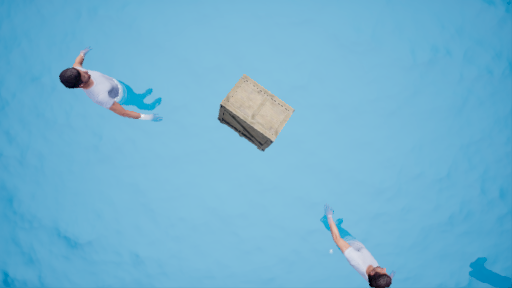person: (65, 45, 168, 132), (321, 210, 404, 288)
